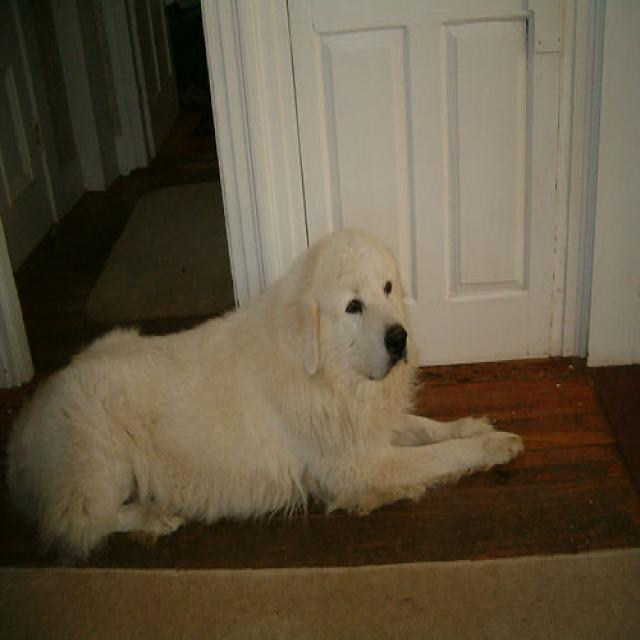dog: (293, 227, 405, 379)
